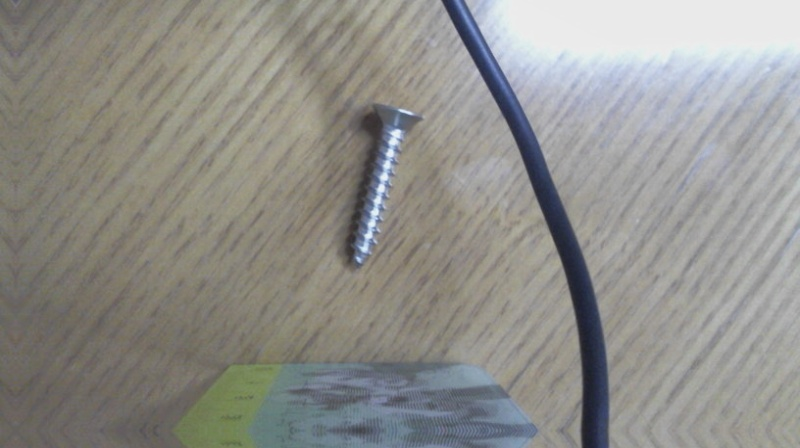S001: (341, 99, 427, 270)
